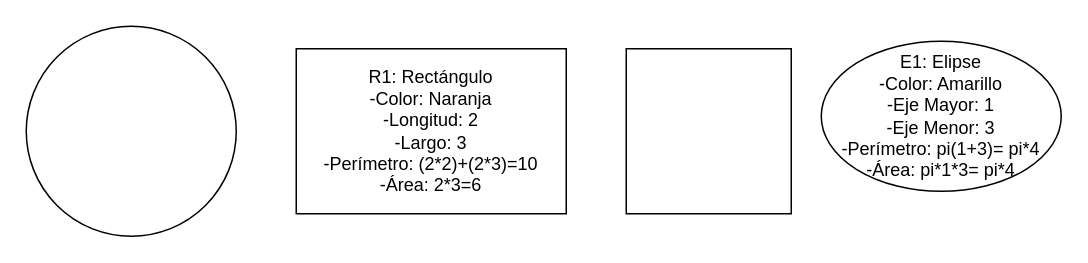
Some shapes in this 1088 by 263 pixel diagram are drawn without their labels. Each missing label, with the centre of its shape:
"C1: Cuadrado -Color: Azul -Lado: 4 -Perímetro: 4*4=16 -Área: 4^2=16" goes at point 708,130.
"C1: Círculo -Color: Negro -Diámetro: pi -Perímetro:2pi^2 -Área: pi * pi^2" goes at point 130,130.
